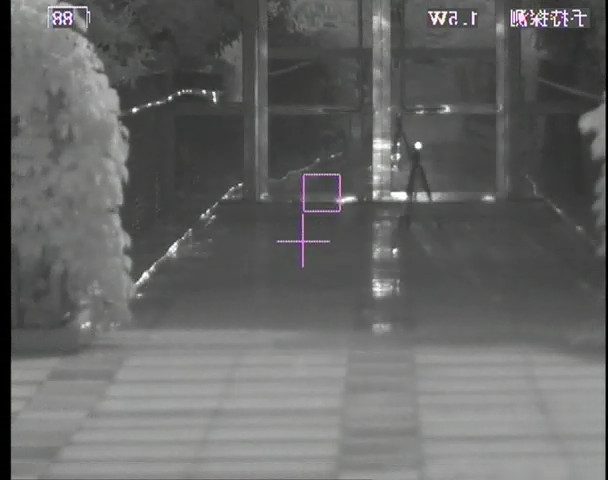my: (411, 140, 423, 151)
